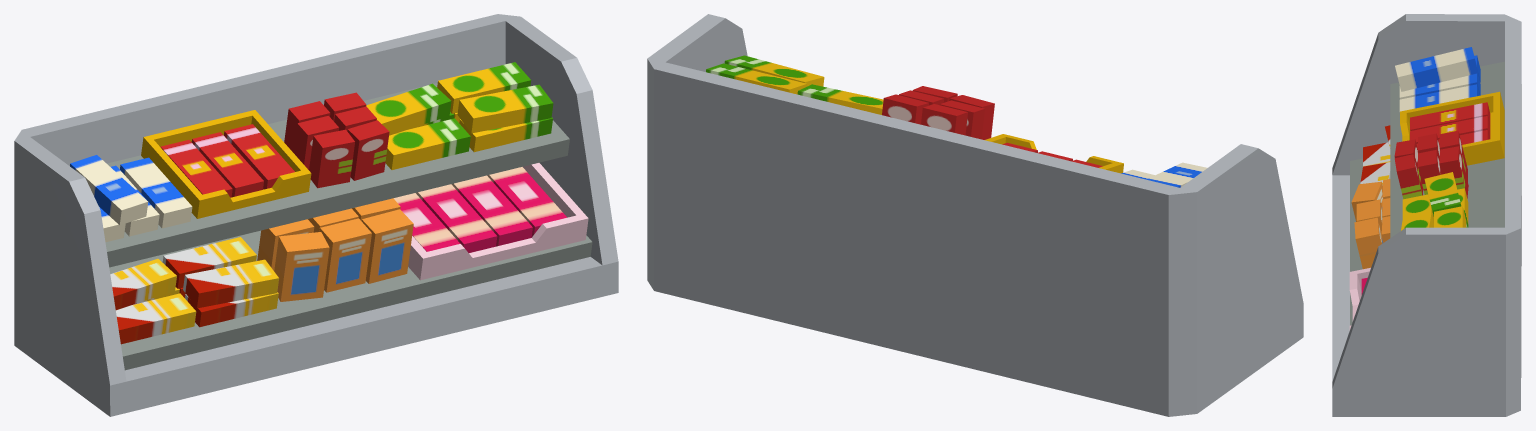
Rendered from SM_Prop_Market_Checkout_Shelf_03.obj.
3 views of the same model, side by side, from view 1: azimuth 30°, elevation 25°; view 2: azimuth 150°, elevation 25°; view 3: azimuth 270°, elevation 25° (orthographic). The views are drawn at different scales.
Visible parts, largest first — view 1: SM_Prop_Market_Checkout_Shelf_03_0, SM_Prop_Market_Checkout_Shelf_03_1; view 2: SM_Prop_Market_Checkout_Shelf_03_1, SM_Prop_Market_Checkout_Shelf_03_0; view 3: SM_Prop_Market_Checkout_Shelf_03_1, SM_Prop_Market_Checkout_Shelf_03_0.
Boxes of the visible parts, x1,y1,x2,y2 form: SM_Prop_Market_Checkout_Shelf_03_0: [70, 62, 592, 370]; SM_Prop_Market_Checkout_Shelf_03_1: [14, 14, 618, 416]; SM_Prop_Market_Checkout_Shelf_03_1: [647, 14, 1303, 416]; SM_Prop_Market_Checkout_Shelf_03_0: [706, 55, 1207, 187]; SM_Prop_Market_Checkout_Shelf_03_1: [1332, 14, 1521, 416]; SM_Prop_Market_Checkout_Shelf_03_0: [1349, 47, 1504, 330].
Bounding box in the file's own units: 1.39 × 0.5354 × 0.504.
2 materials, 2 textured.
